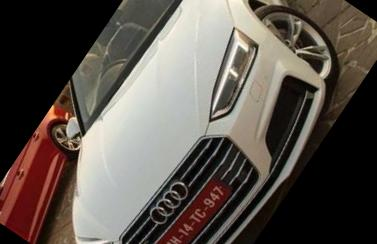plate: (138, 151, 248, 244)
